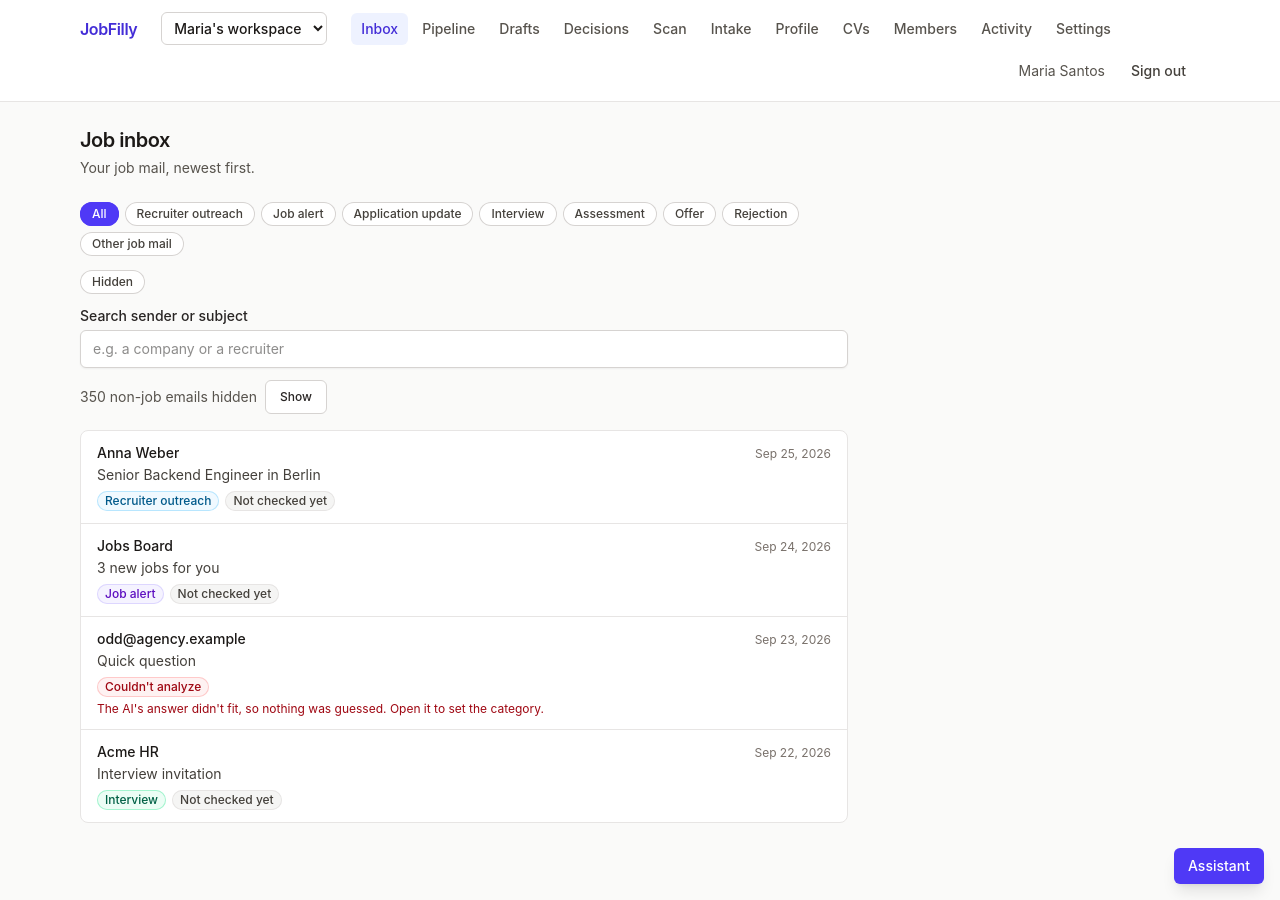
the list (F5.1) › filters by category with the chips (F5.5)
Click the button "Interview": [518, 214] box [480,202,557,226]
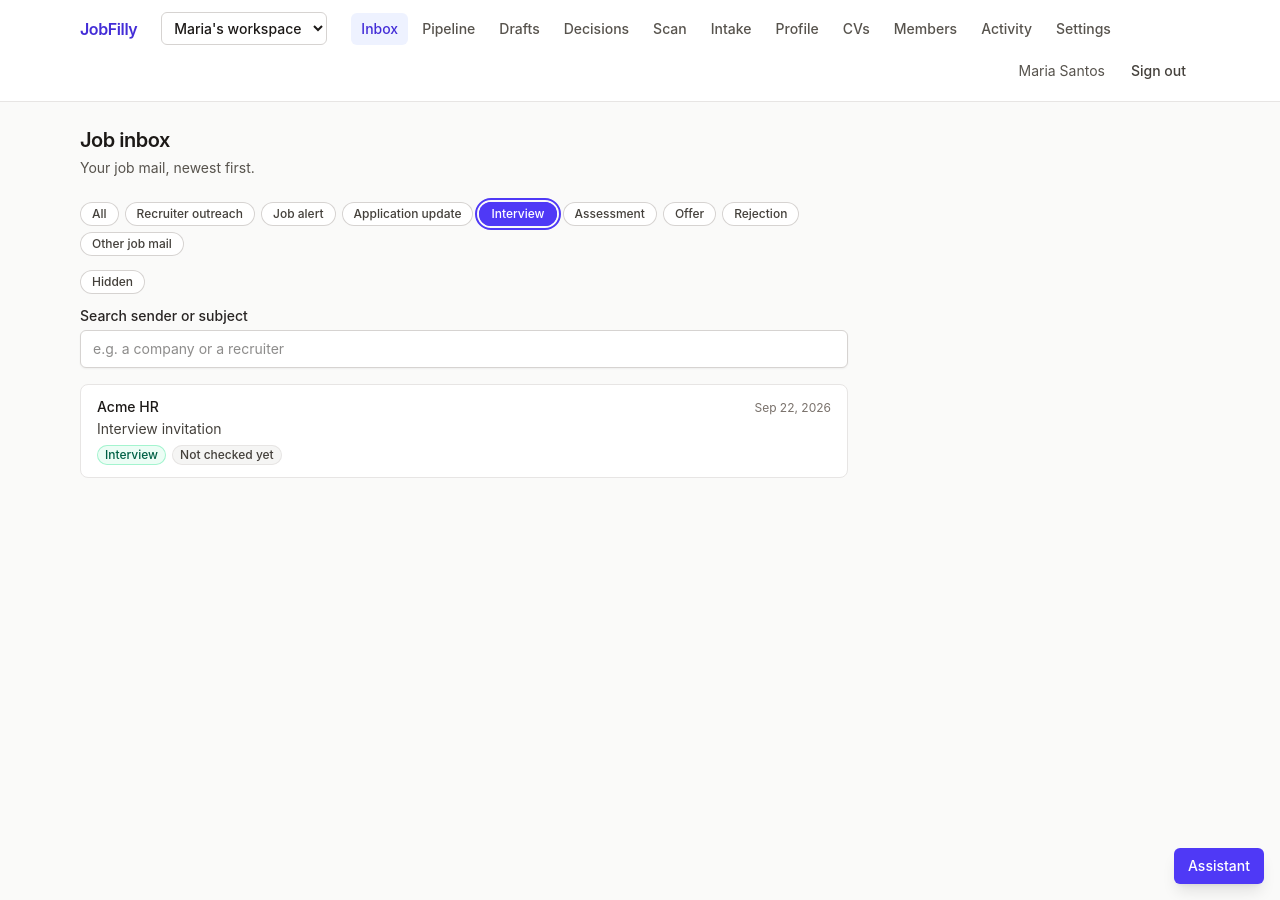
Expected: the text "Interview invitation" is shown, [97,420,222,437]
Expected: the button "Interview" is pressed, [480,202,557,226]
Click the button "All": [99, 214] box [80,202,119,226]
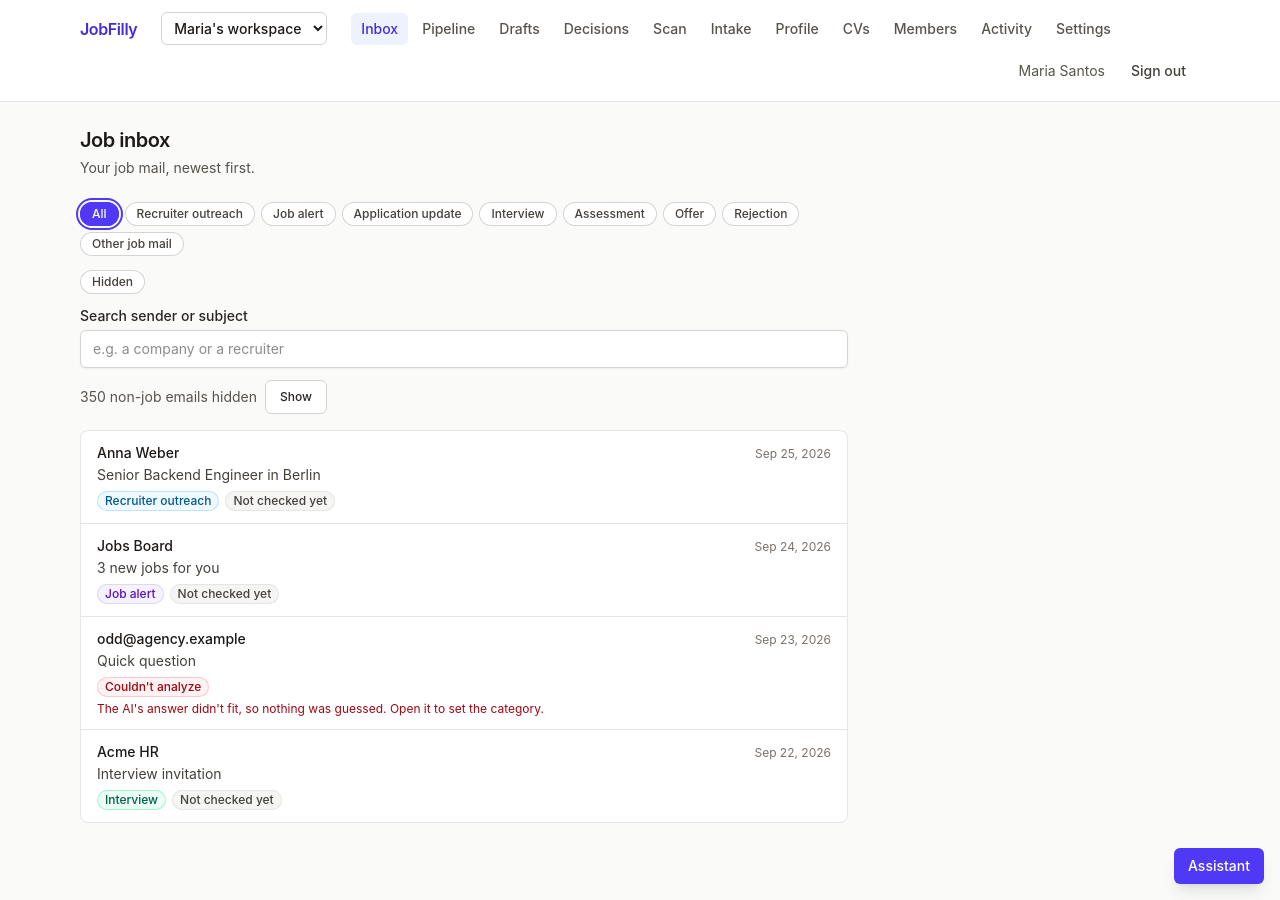
Expected: the text "Quick question" is shown, [97,652,196,669]
